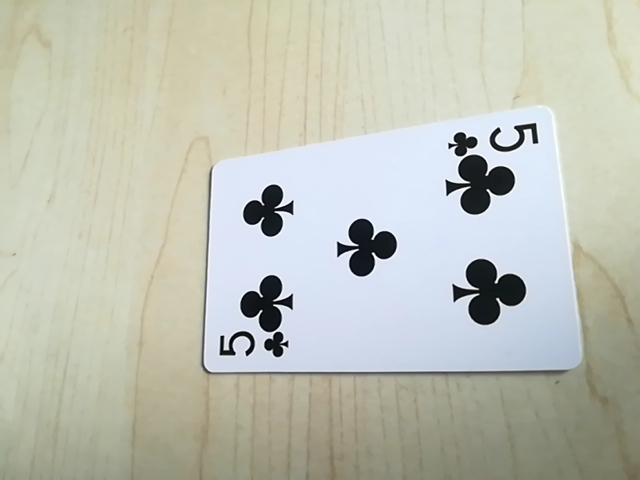mh 5: (445, 118, 544, 156), (214, 327, 292, 365)
